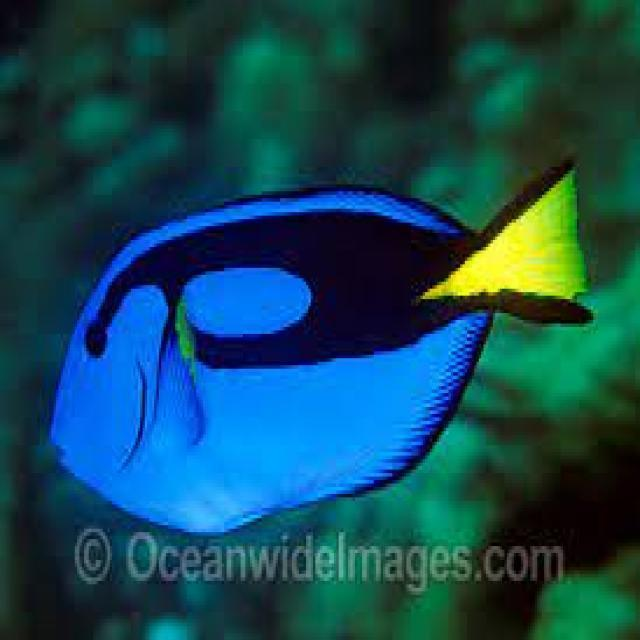TangFish: (49, 158, 594, 540)
